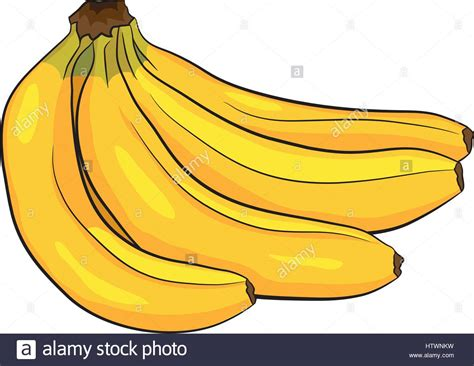banana: (71, 54, 409, 304), (1, 55, 258, 333), (123, 53, 465, 235), (133, 42, 473, 162)
